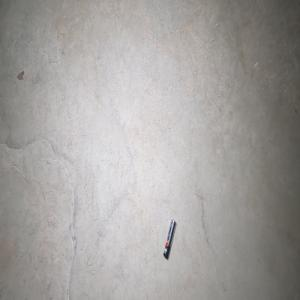Battery: (163, 218, 176, 259)
